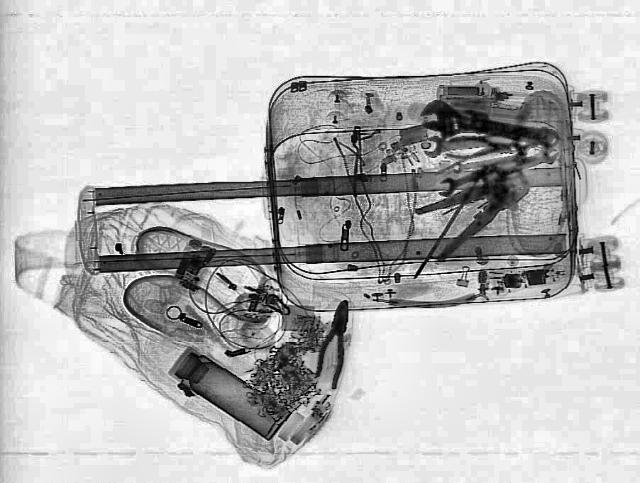Pliers: (395, 162, 559, 262), (311, 297, 355, 389)
Wrench: (412, 98, 558, 151), (432, 144, 562, 196)
